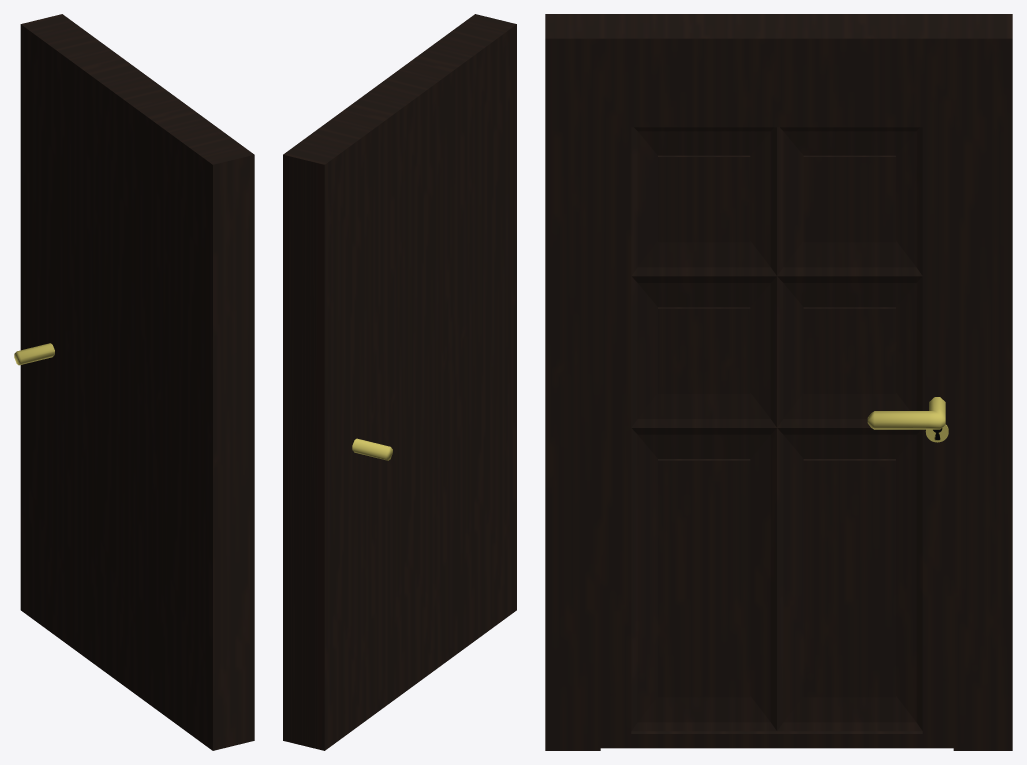
The model's file is door.fbx.
3 renders of one model, left to right at view 1: azimuth 30°, elevation 25°; view 2: azimuth 150°, elevation 25°; view 3: azimuth 270°, elevation 25°, orthographic. The views are drawn at different scales.
Parts seen in each view (by area): view 1: Cube, Cube.001; view 2: Cube, Cube.001; view 3: Cube, Cube.001.
Part boxes in pixels (x1,y1,x2,y2): Cube: (20, 14, 254, 750); Cube.001: (14, 343, 54, 365); Cube: (283, 14, 516, 750); Cube.001: (352, 438, 392, 460); Cube: (545, 14, 1012, 750); Cube.001: (867, 397, 945, 429).
Size of the model in its own units: 200 by 1071 by 637.
Materials: 2 (2 with a texture image).
